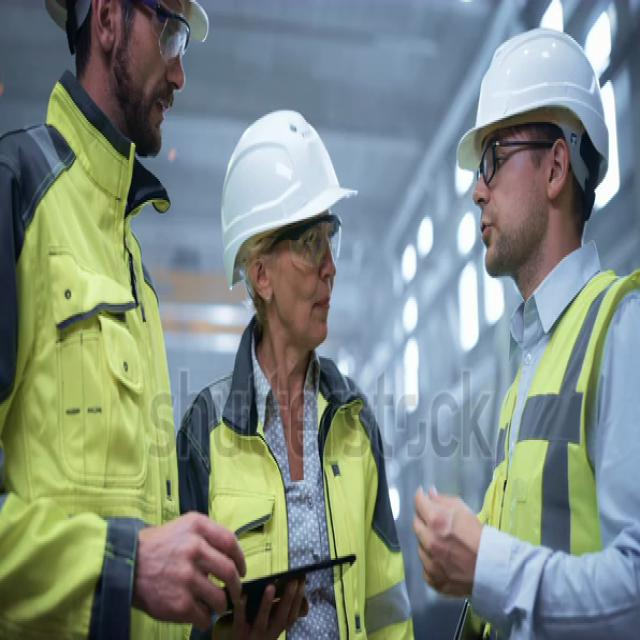goggles: (471, 130, 558, 190), (128, 0, 194, 69), (271, 211, 342, 270)
